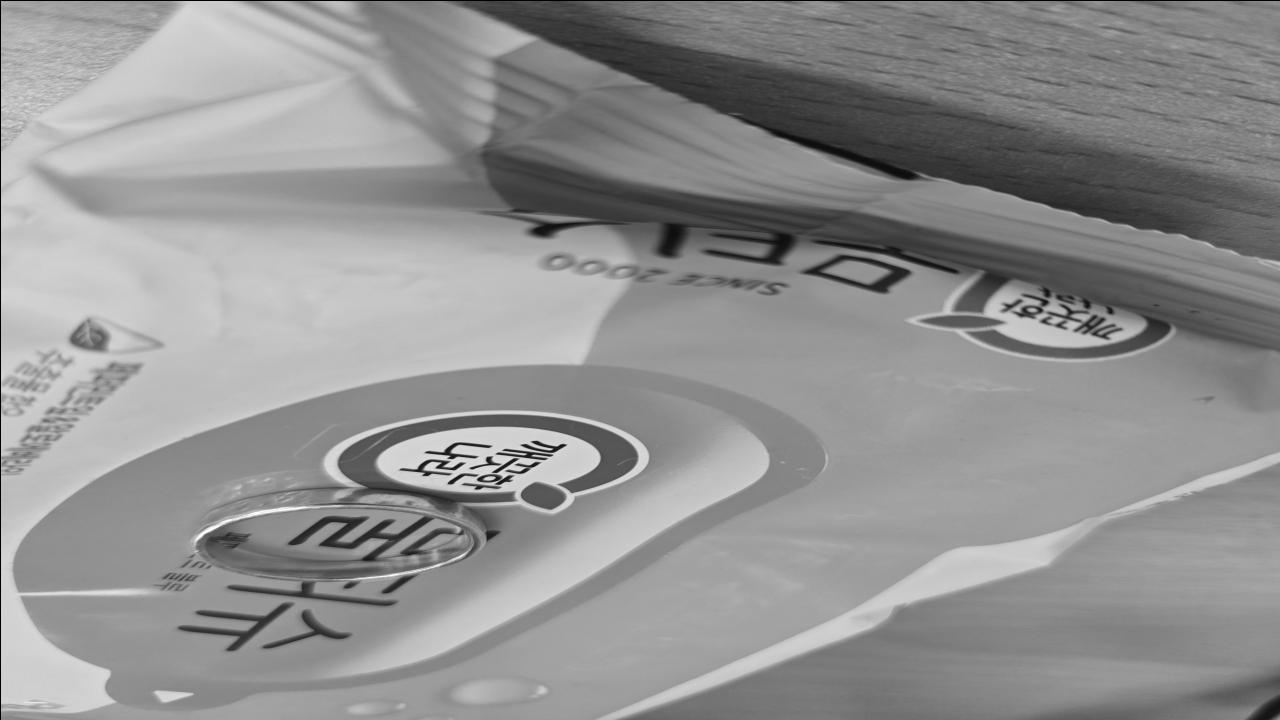ring: (187, 488, 480, 582)
